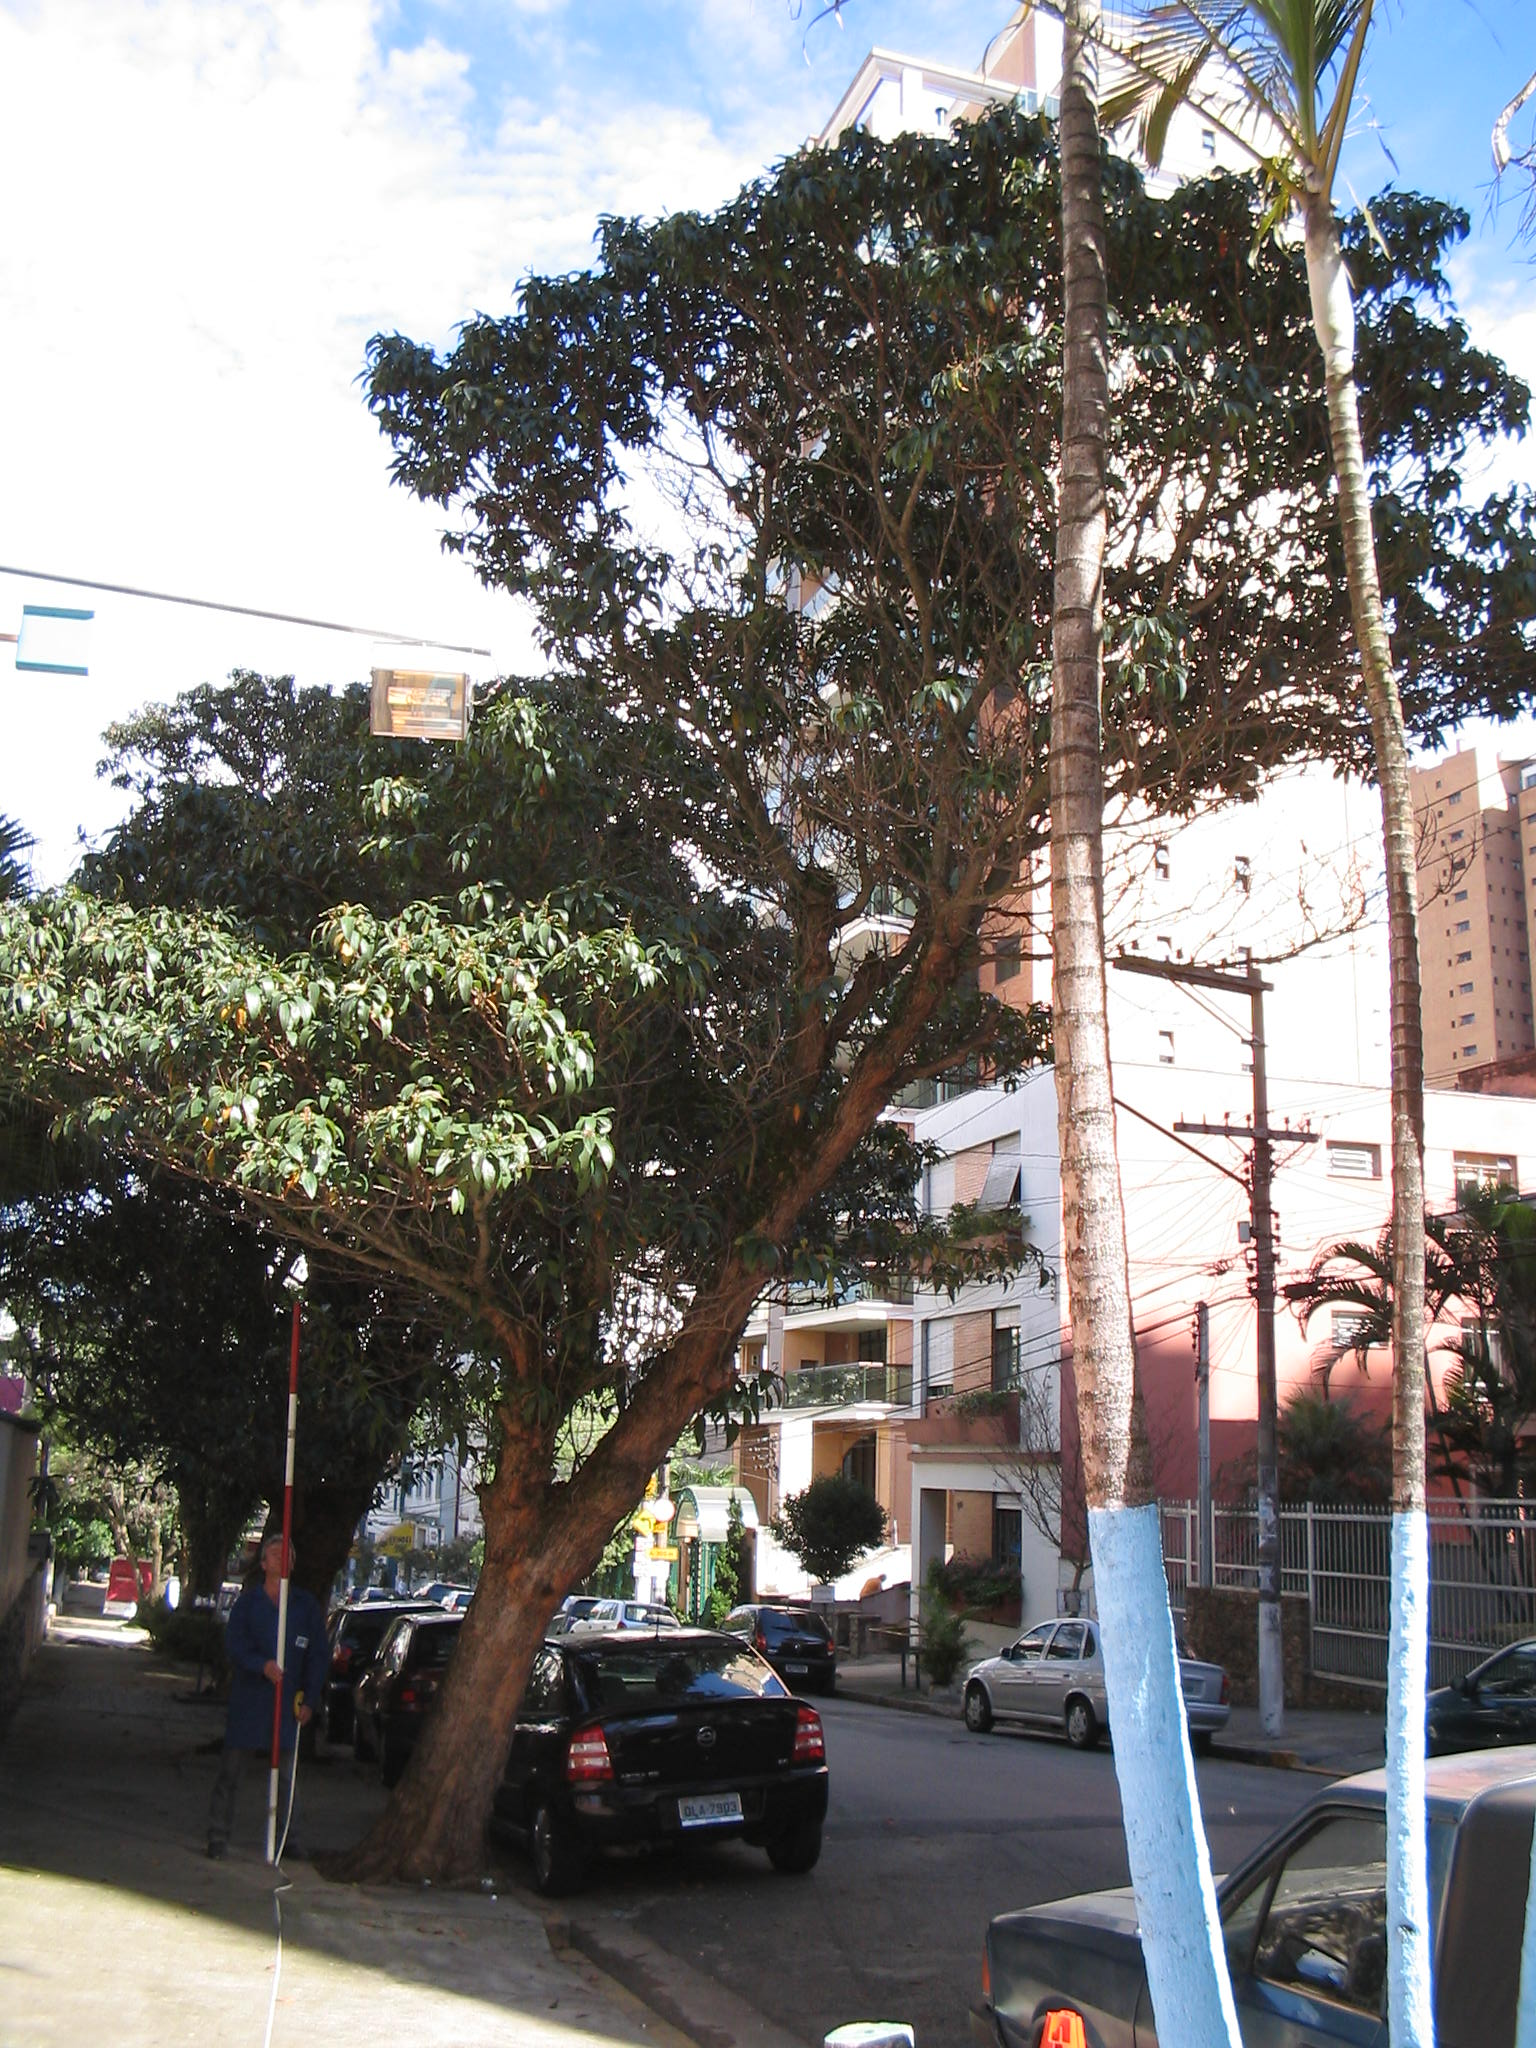crown: (11, 90, 1534, 1334)
stem: (344, 1524, 616, 1884)
stick: (240, 1295, 324, 1863)
tree: (10, 84, 1536, 1885)
